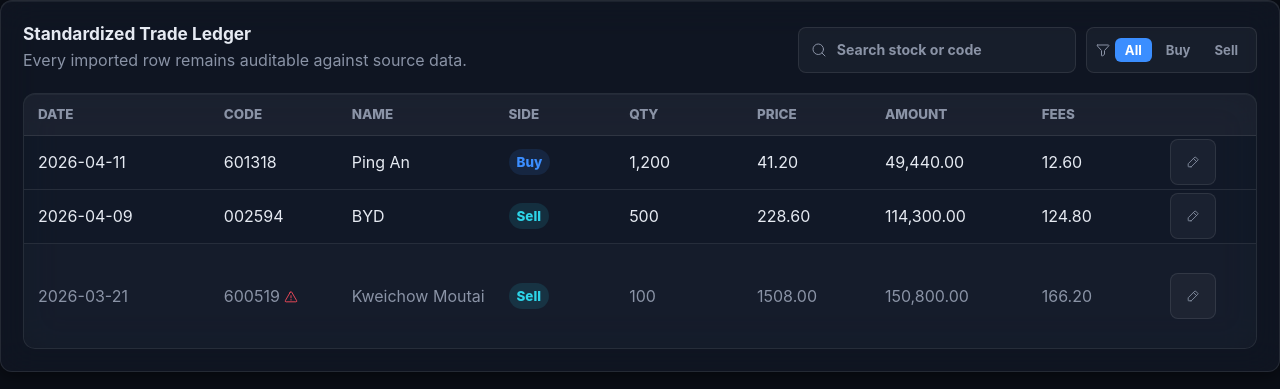
LedgerView › enters edit mode when edit button is clicked
Click the button titled "Edit" next to "12.60": [1193, 162] box [1170,139,1216,185]
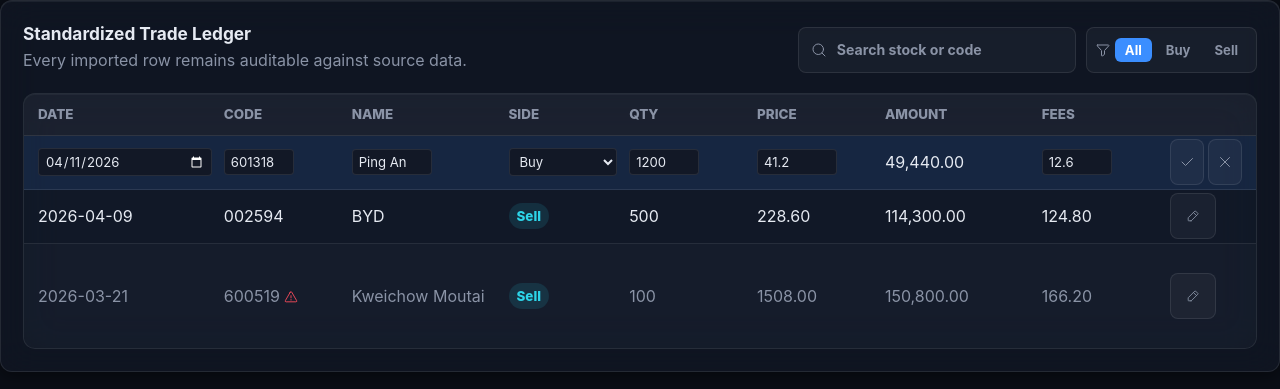
Expected: the button titled "Save" is shown, [1170,139,1204,185]
Expected: the button titled "Cancel" is shown, [1208,139,1242,185]
